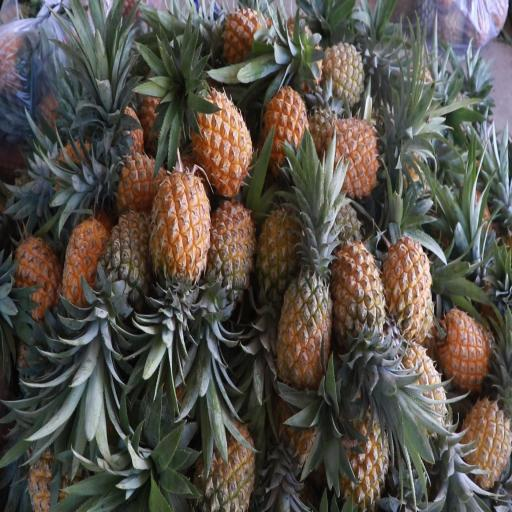------------------------------: (275, 262, 338, 403), (193, 383, 256, 512), (99, 206, 157, 311), (254, 196, 304, 311), (313, 37, 365, 116)
Pineapple - v8 v1: (144, 164, 212, 299), (188, 78, 252, 202), (326, 232, 385, 364), (328, 399, 389, 512), (201, 188, 255, 315), (382, 228, 438, 350), (316, 105, 386, 195), (61, 204, 110, 326), (98, 140, 174, 214), (434, 301, 493, 395), (259, 70, 312, 174), (4, 227, 58, 321), (459, 392, 512, 486), (212, 0, 268, 71)
